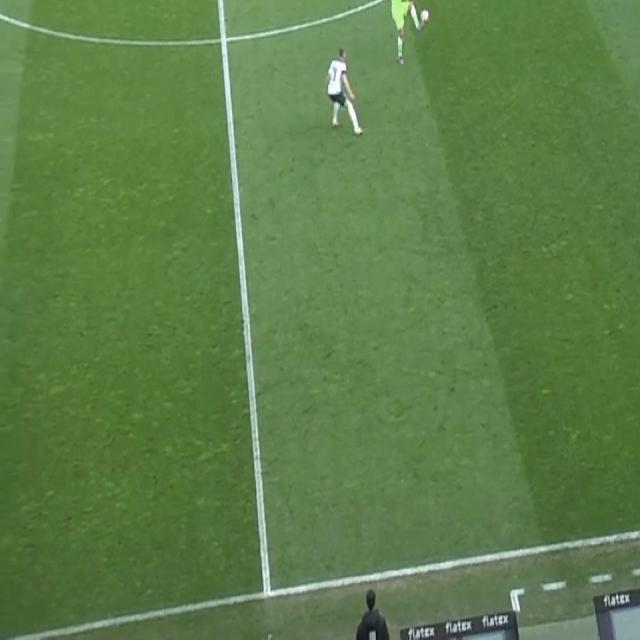ball: (420, 9, 430, 24)
